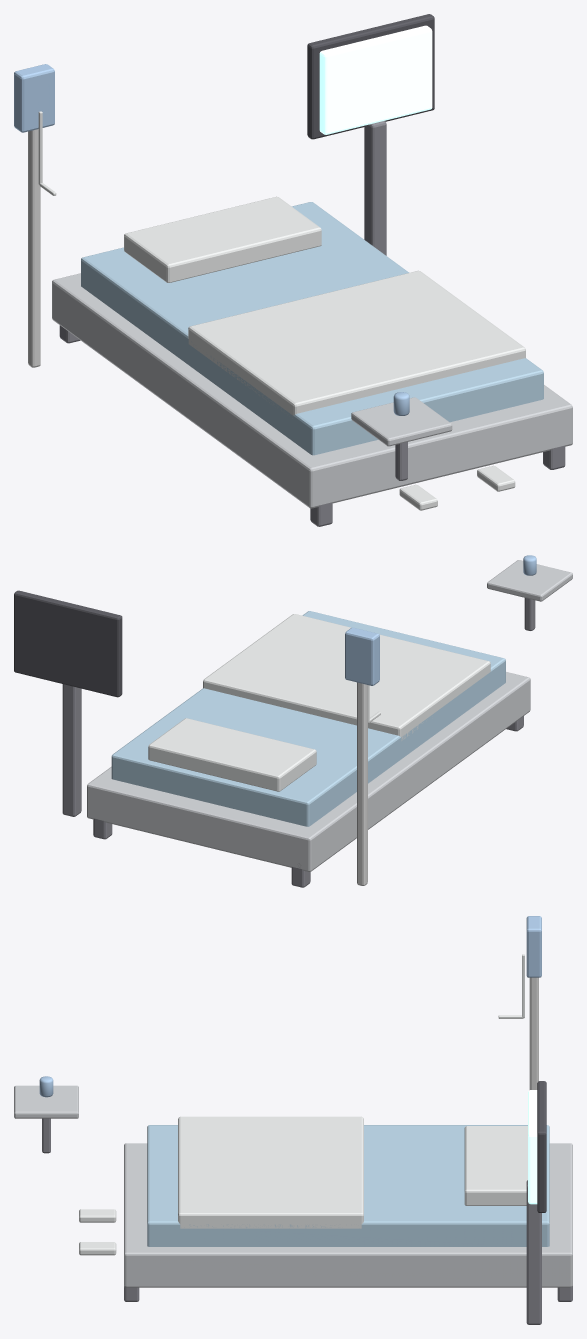
File: кушетка.glb
3 views of the same model, one above another, from view 1: azimuth 30°, elevation 25°; view 2: azimuth 150°, elevation 25°; view 3: azimuth 270°, elevation 25° (orthographic). The views are drawn at different scales.
Visible parts, largest first — view 1: кушетка; view 2: кушетка; view 3: кушетка.
Part boxes in pixels (<box>): кушетка: <box>14,14,572,526</box>; кушетка: <box>14,555,572,887</box>; кушетка: <box>14,916,572,1324</box>.
Bounding box in the file's own units: 2.71 × 1.82 × 3.61.
